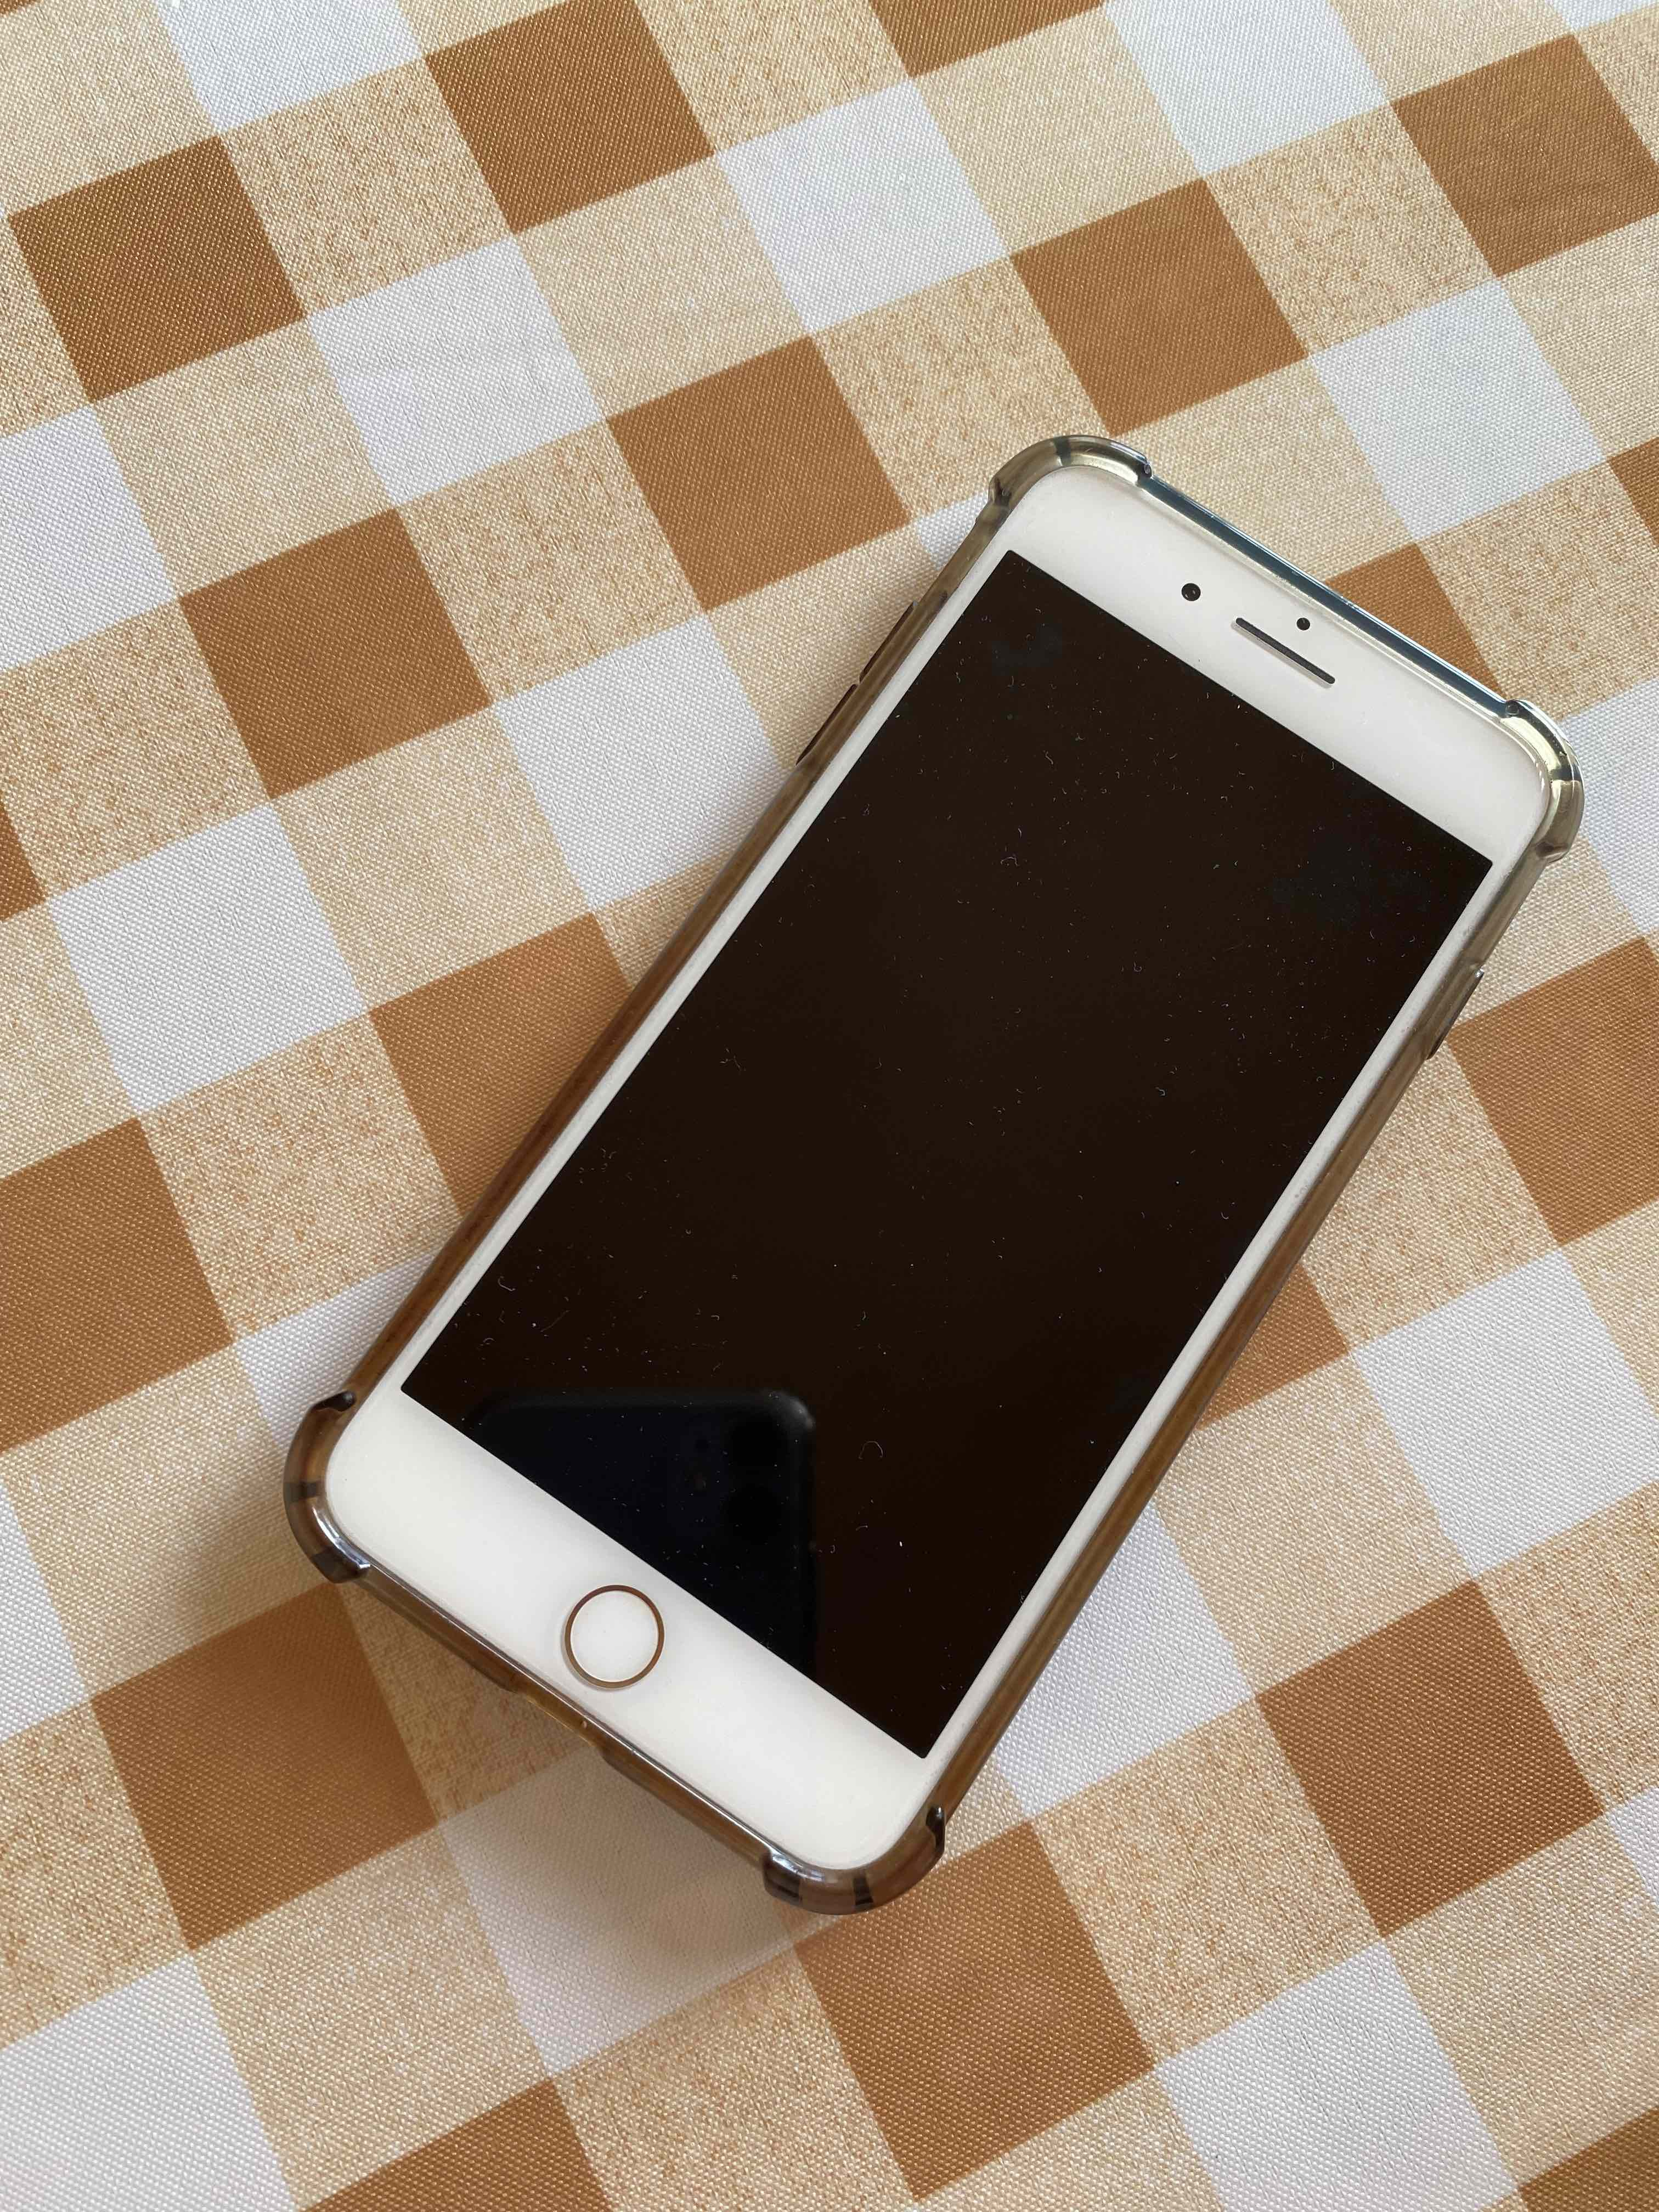Cell Phone: (295, 430, 1572, 1907)
